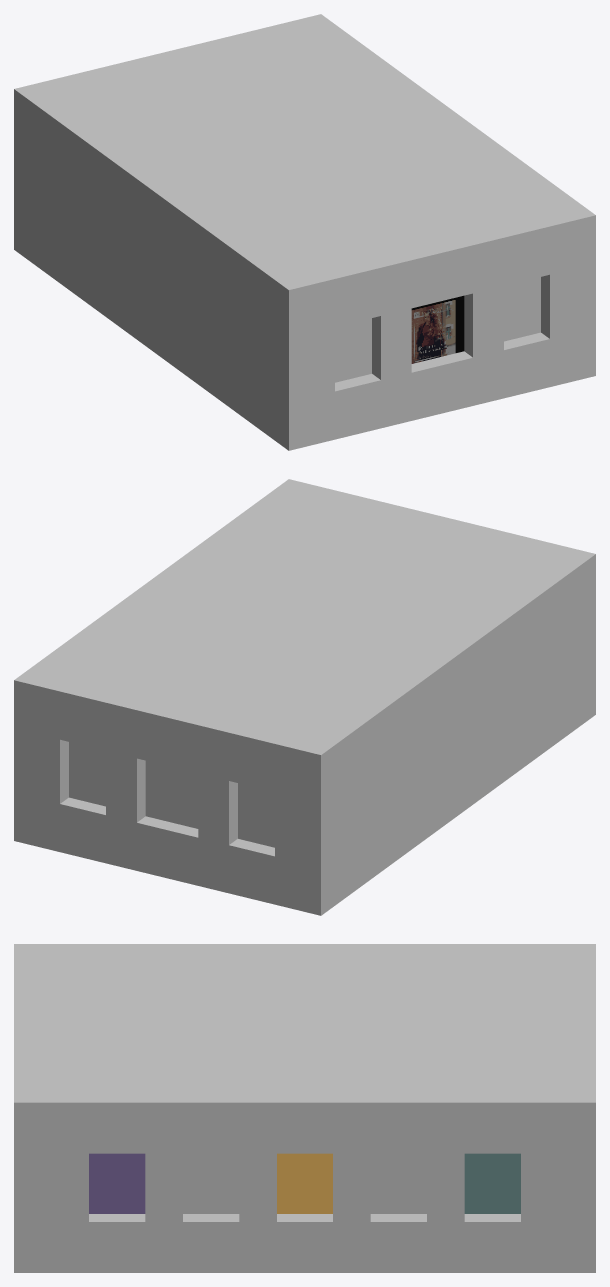
Rendered from out_building_01.FBX.
The picture shows the model from 3 angles, top to bottom: view 1: azimuth 30°, elevation 25°; view 2: azimuth 150°, elevation 25°; view 3: azimuth 270°, elevation 25°; orthographic projection. The views are drawn at different scales.
Parts seen in each view (by area): view 1: out_building_01, out_building_01_window; view 2: out_building_01, out_building_01_window; view 3: out_building_01, out_building_01_window.
Boxes of the visible parts, x1,y1,x2,y2 form: out_building_01: (14, 14, 595, 450); out_building_01_window: (335, 277, 540, 382); out_building_01: (14, 479, 595, 915); out_building_01_window: (69, 742, 274, 847); out_building_01: (14, 944, 595, 1272); out_building_01_window: (89, 1153, 520, 1213).
Size of the model in its own units: 377 by 188 by 584.
